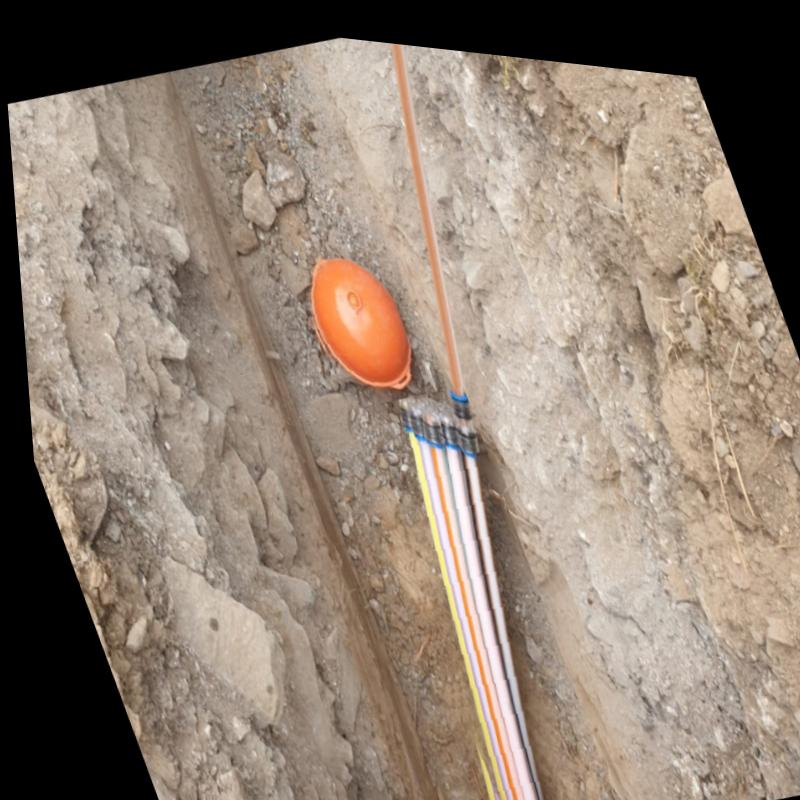Kugelmarker: (305, 243, 409, 392)
Orang-Speednetrohrchen: (387, 388, 535, 800)
